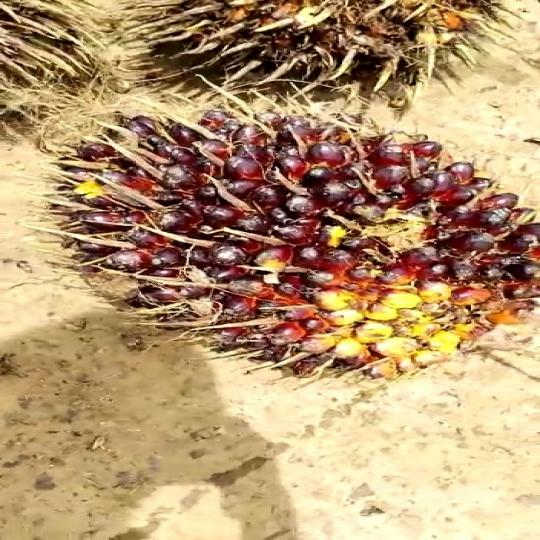mentah: (50, 97, 540, 392)
